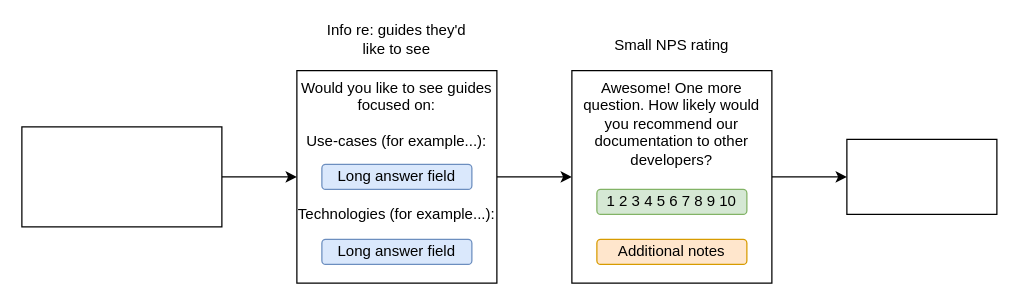
Image size: 1019x305. Some labels were removed from this diagram. Each missing label, with the centre of its shape:
Hi there! We are creating specific guides and would love to hear your feedback!: pixel 121 176
Thanks for your feedback! We'll try our best to get it done soon :): pixel 921 176
